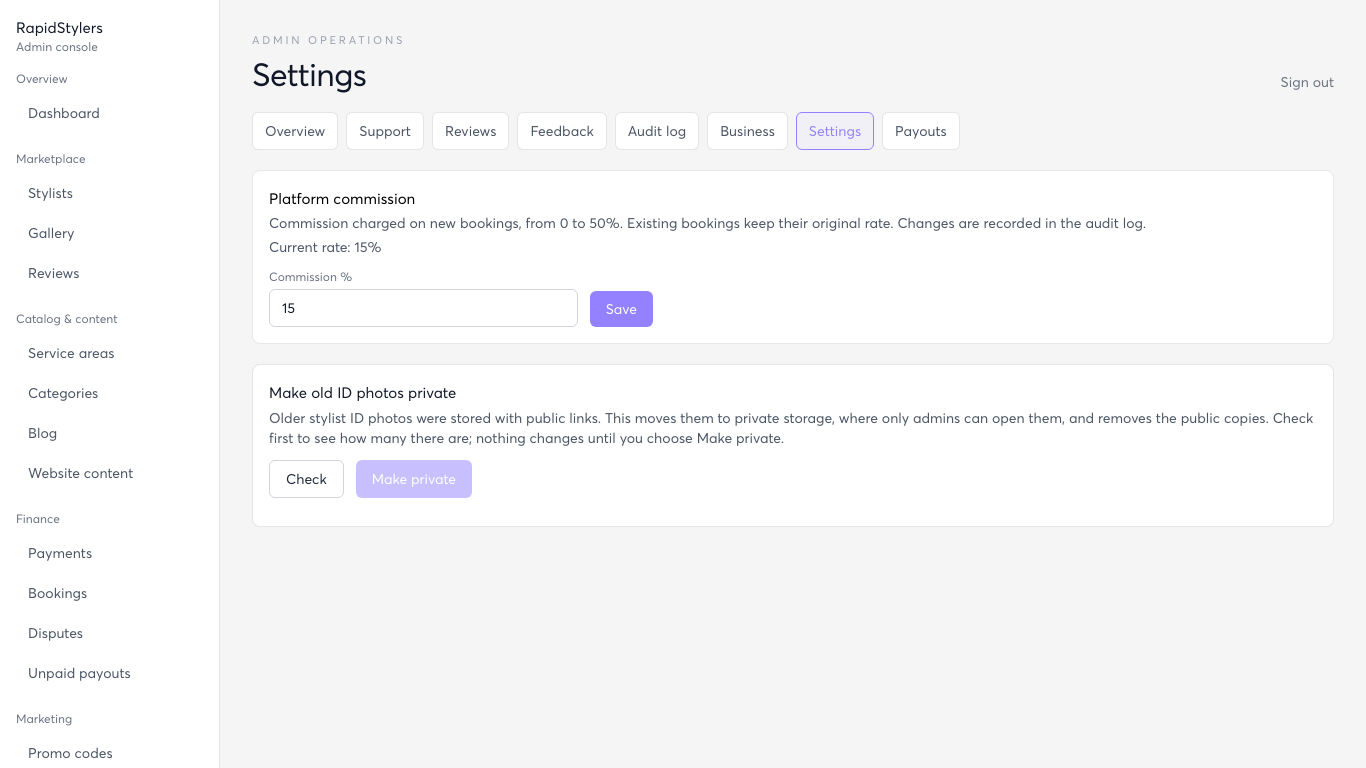
Test: making old ID photos private › shows the server's message when a page fails
The width and height of the screenshot is (1366, 768).
What coordinates should you click on to do the following:
click the button "Check"
I would click on:
 (306, 479)
Its box is [269,460,344,498].
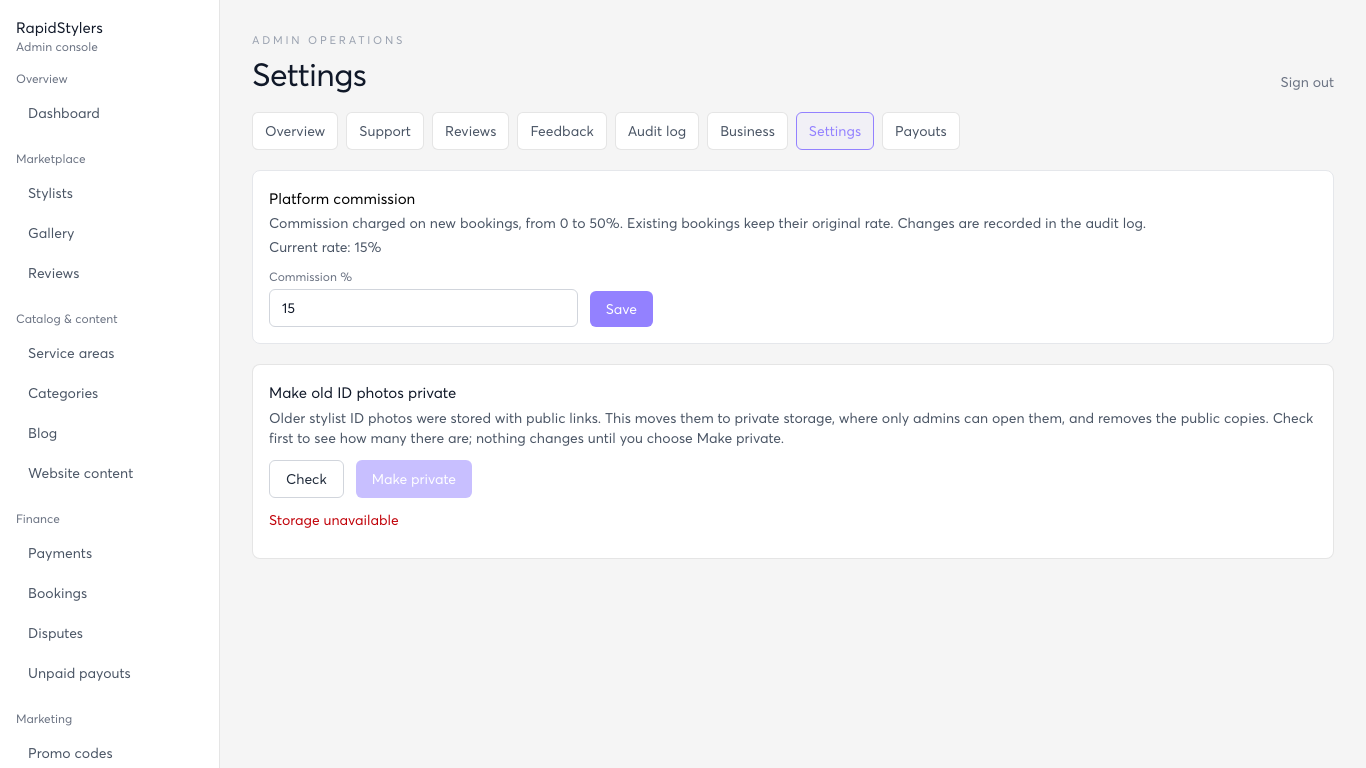
Expected: the button "Make private" is disabled, [356,460,472,498]
Result: the message reads "Storage unavailable" at [269,511,399,528]
